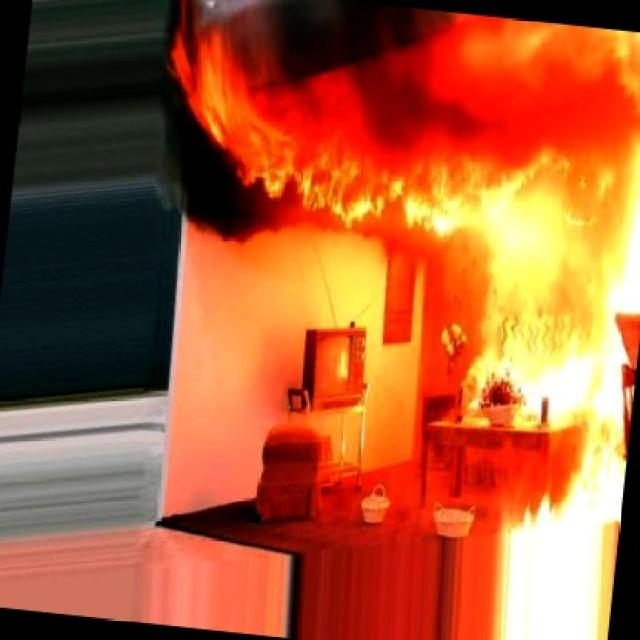fire: (117, 0, 640, 551)
